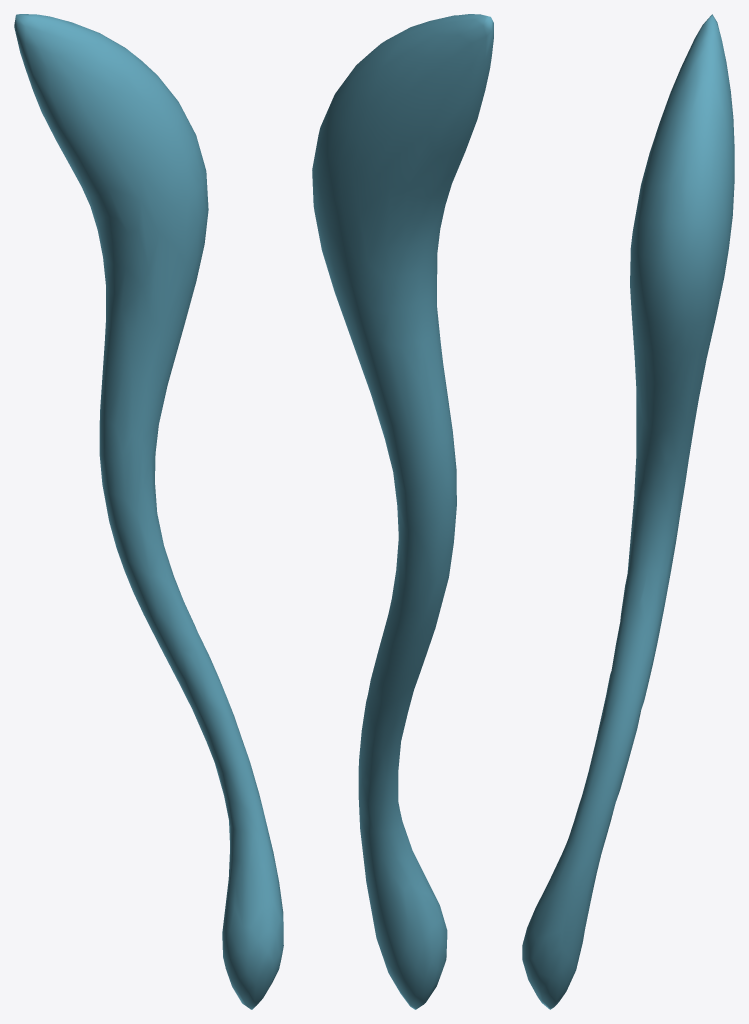
File: Sap_7_a72d9358.fbx
3 renders of one model, left to right at view 1: azimuth 30°, elevation 25°; view 2: azimuth 150°, elevation 25°; view 3: azimuth 270°, elevation 25°, orthographic. The views are drawn at different scales.
Parts seen in each view (by area): view 1: BlueSap_G_LongFlow; view 2: BlueSap_G_LongFlow; view 3: BlueSap_G_LongFlow.
Part boxes in pixels (bbox=[...]): BlueSap_G_LongFlow: bbox=[14, 14, 283, 1009]; BlueSap_G_LongFlow: bbox=[312, 14, 493, 1009]; BlueSap_G_LongFlow: bbox=[522, 14, 734, 1009].
Bounding box in the file's own units: 26.14 × 132 × 27.44.
